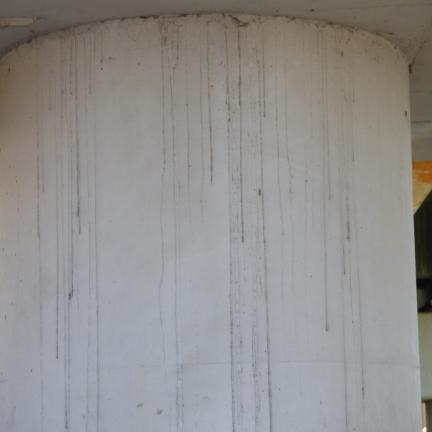pier bridge: (0, 15, 423, 431)
